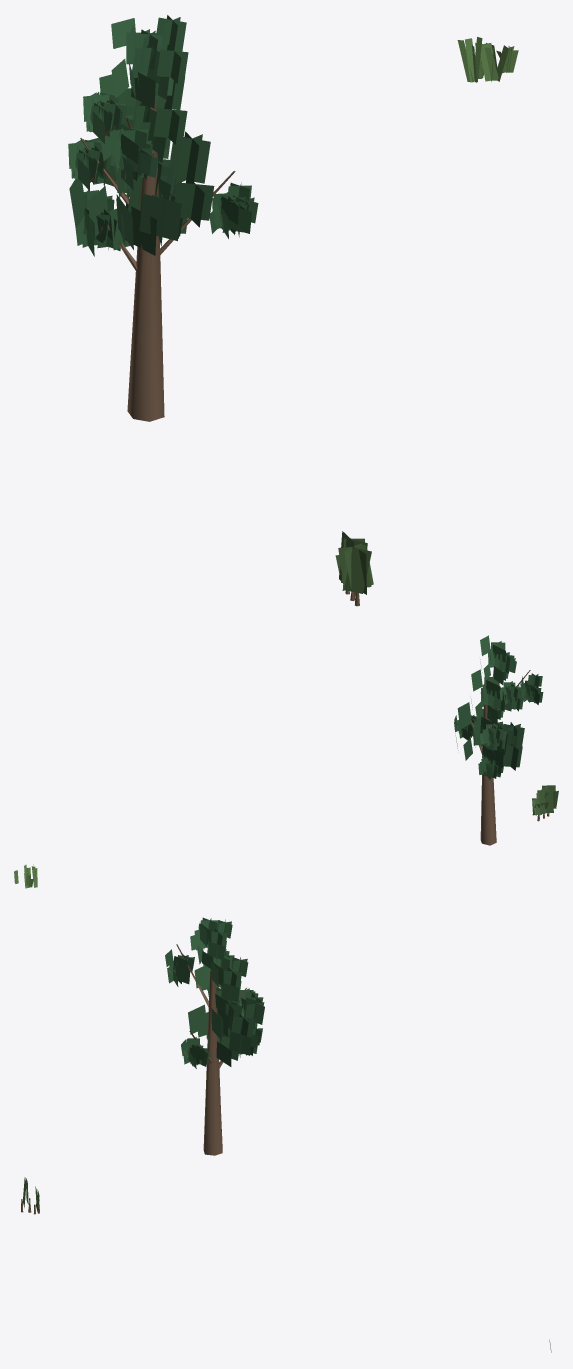
Rendered from arch_land_scatter_c23_19.glb.
The picture shows the model from 3 angles, top to bottom: view 1: azimuth 30°, elevation 25°; view 2: azimuth 150°, elevation 25°; view 3: azimuth 270°, elevation 25°; orthographic projection. The views are drawn at different scales.
Parts seen in each view (by area): view 1: arch_land_scatter_c23_19; view 2: arch_land_scatter_c23_19; view 3: arch_land_scatter_c23_19.
Boxes of the visible parts, x1,y1,x2,y2 form: arch_land_scatter_c23_19: (68, 15, 518, 606); arch_land_scatter_c23_19: (14, 635, 558, 888); arch_land_scatter_c23_19: (21, 917, 551, 1352).
Bounding box in the file's own units: 13.91 × 8.67 × 15.4.
